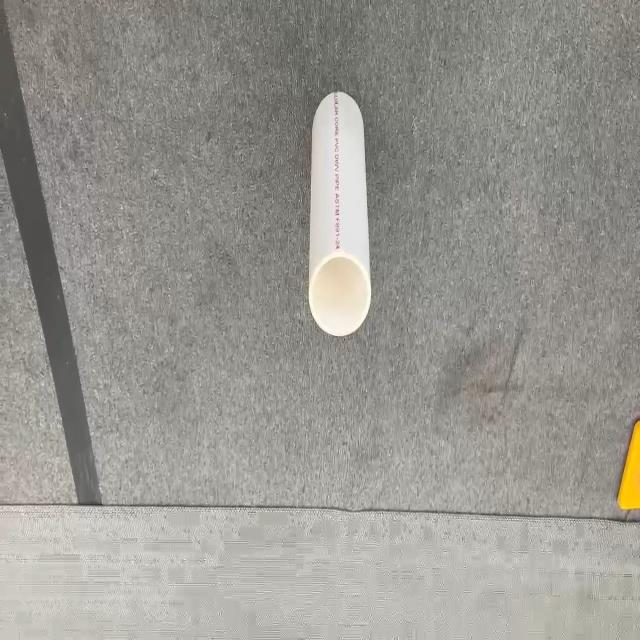coral: (307, 89, 372, 337)
